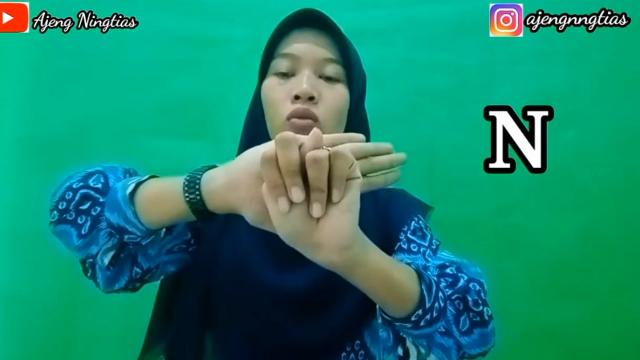N: (260, 127, 364, 255)
